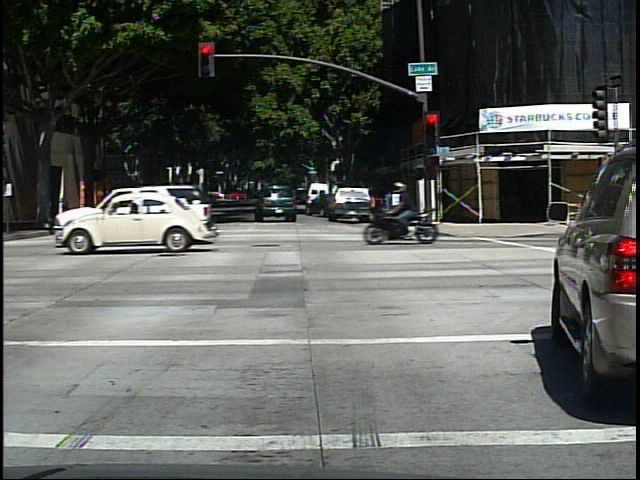person: (401, 177, 439, 238), (60, 190, 72, 224)
